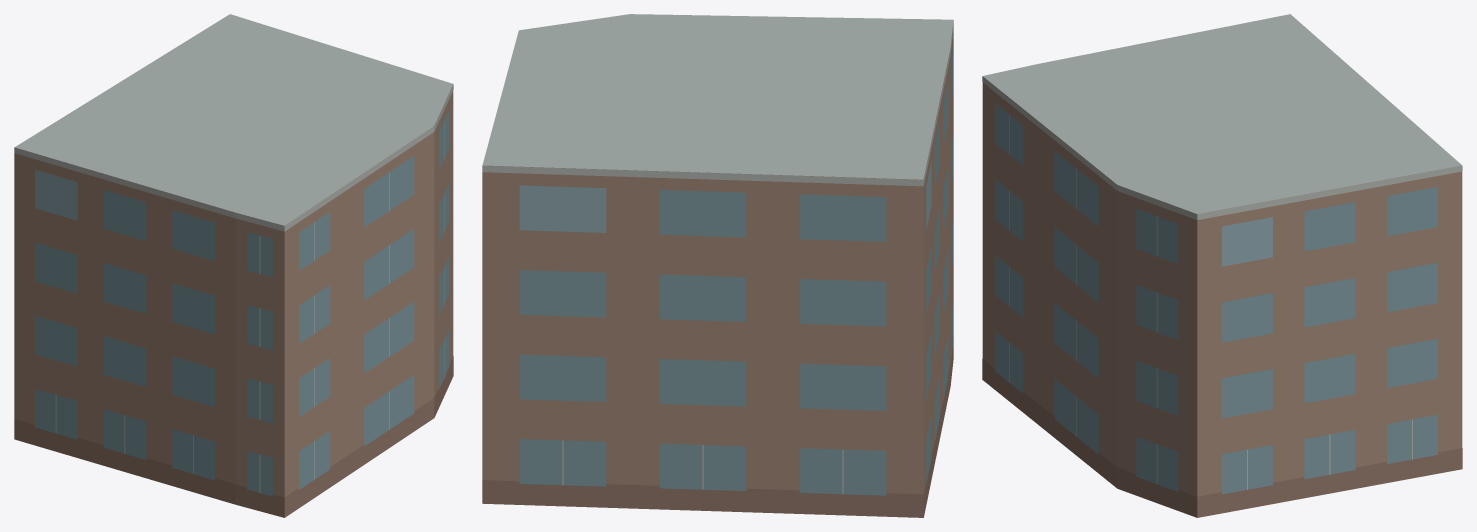
Rendered from survey-upis-32620620.glb.
3 renders of one model, left to right at view 1: azimuth 30°, elevation 25°; view 2: azimuth 150°, elevation 25°; view 3: azimuth 270°, elevation 25°, orthographic. The views are drawn at different scales.
Visible parts, largest first — view 1: survey-upis-32620620.tmp; view 2: survey-upis-32620620.tmp; view 3: survey-upis-32620620.tmp.
Boxes of the visible parts, x1,y1,x2,y2 form: survey-upis-32620620.tmp: (14,14,453,517); survey-upis-32620620.tmp: (482,14,953,517); survey-upis-32620620.tmp: (982,14,1462,517).
Bounding box in the file's own units: 17.32 × 12.25 × 17.55.
